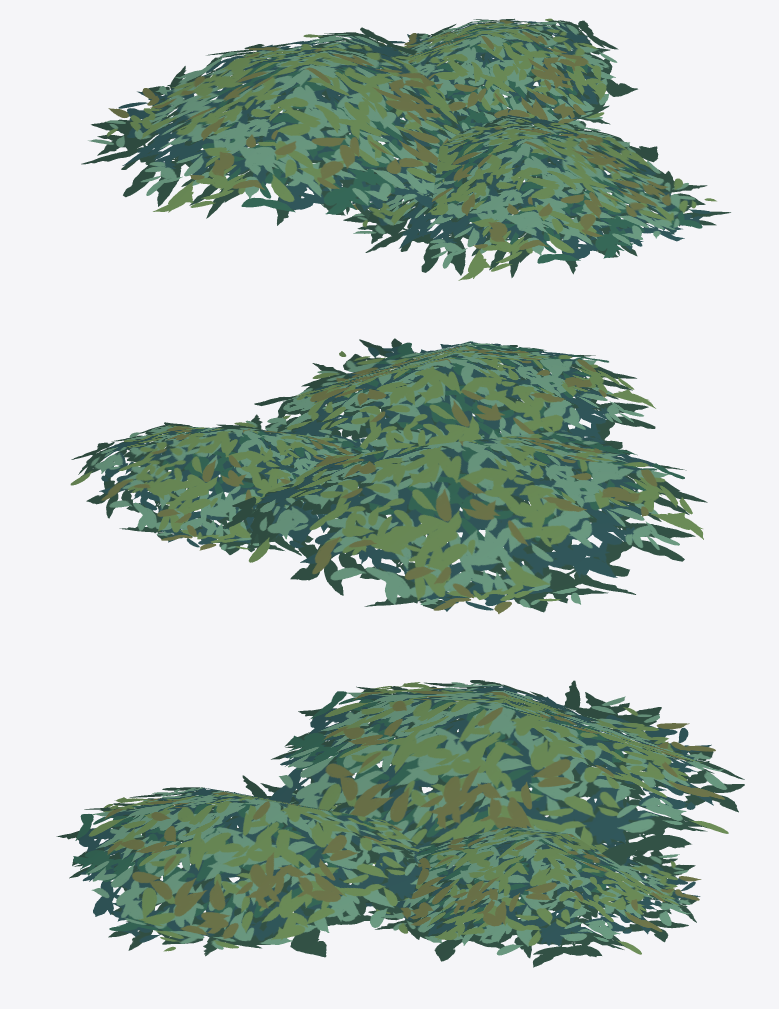
File: green_bush.fbx
3 renders of one model, top to bottom at view 1: azimuth 30°, elevation 25°; view 2: azimuth 150°, elevation 25°; view 3: azimuth 270°, elevation 25°, orthographic. The views are drawn at different scales.
Parts seen in each view (by area): view 1: pPlane119; view 2: pPlane119; view 3: pPlane119.
Part boxes in pixels (x1,y1,x2,y2): pPlane119: (81, 18, 730, 280); pPlane119: (70, 338, 707, 613); pPlane119: (56, 680, 744, 967).
Bounding box in the file's own units: 1.41 × 0.2108 × 1.44.
